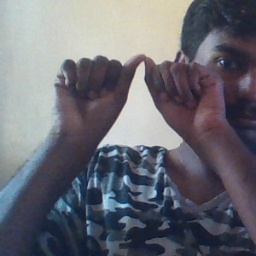A: (67, 45, 210, 131)
